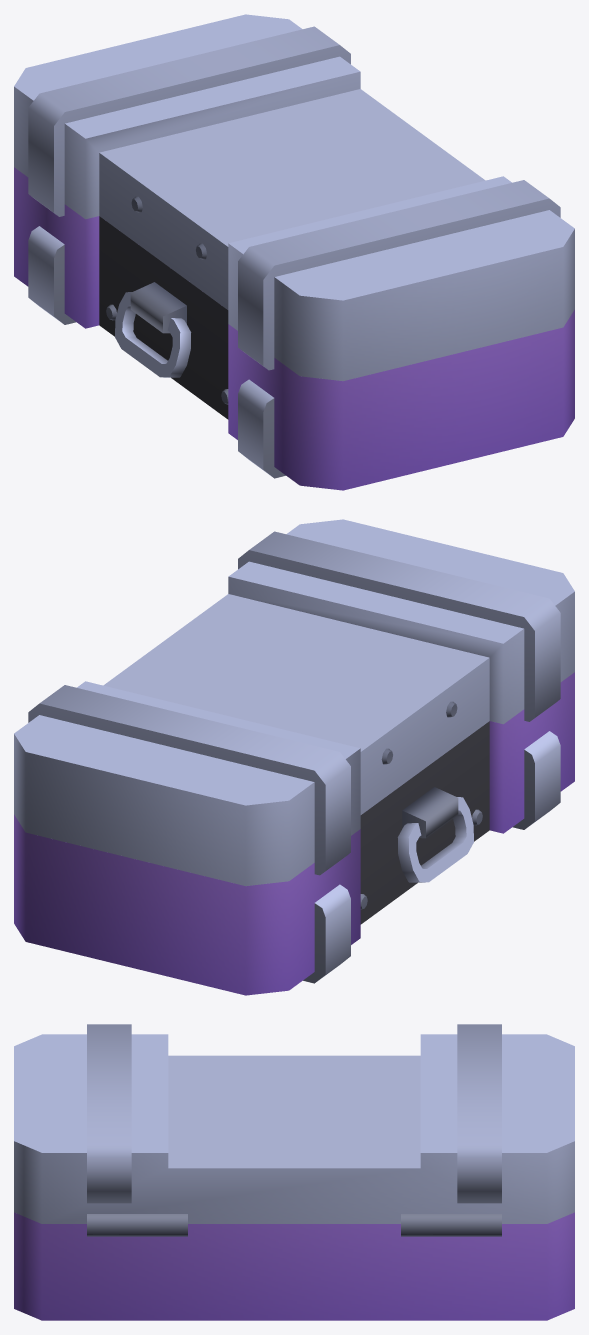
The model's file is crate.glb.
3 renders of one model, top to bottom at view 1: azimuth 30°, elevation 25°; view 2: azimuth 150°, elevation 25°; view 3: azimuth 270°, elevation 25°, orthographic. The views are drawn at different scales.
Parts seen in each view (by area): view 1: lid, crate-medium; view 2: lid, crate-medium; view 3: lid, crate-medium.
Part boxes in pixels (left/top/right/bottom): lid: left=14, top=14, right=574, bottom=381; crate-medium: left=14, top=167, right=574, bottom=490; lid: left=14, top=519, right=574, bottom=886; crate-medium: left=14, top=672, right=574, bottom=995; lid: left=14, top=1024, right=574, bottom=1223; crate-medium: left=14, top=1212, right=574, bottom=1320.
Size of the model in its own units: 0.5495 by 0.37 by 1.
1 material, 1 textured.
